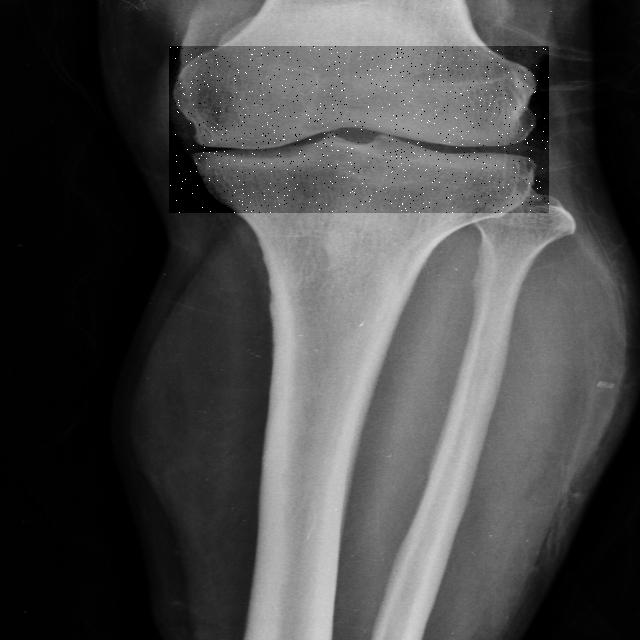osteo: (169, 46, 549, 213)
